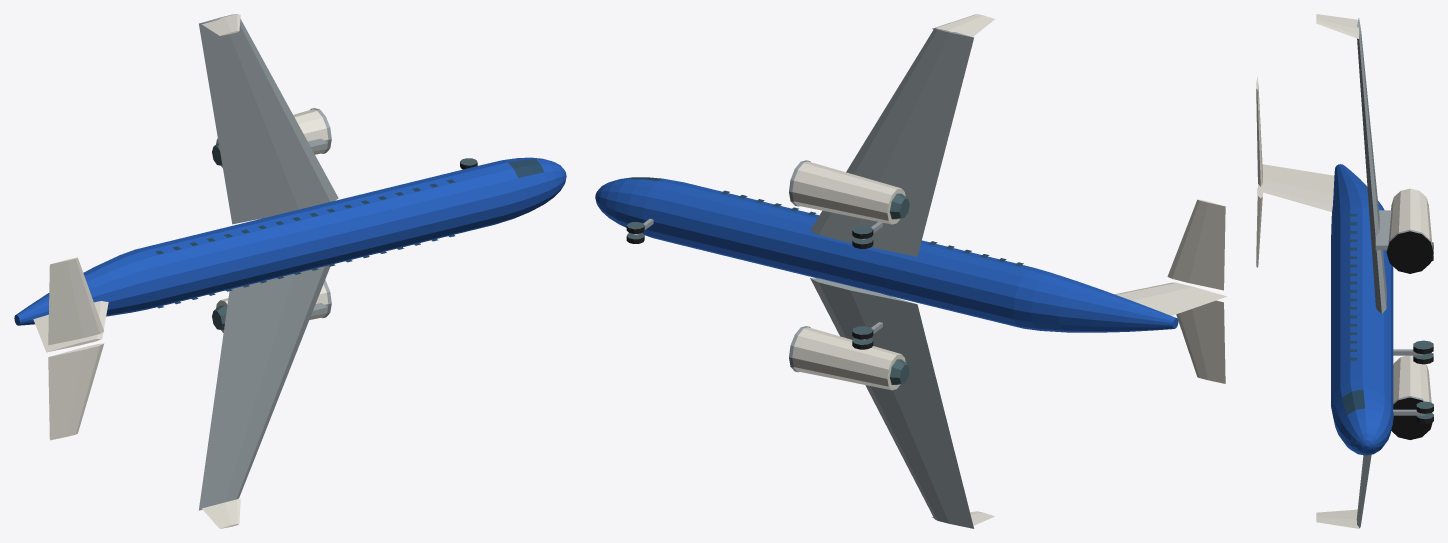
3 renders of one model, left to right at view 1: azimuth 30°, elevation 25°; view 2: azimuth 150°, elevation 25°; view 3: azimuth 270°, elevation 25°, orthographic.
Parts seen in each view (by area): view 1: default_fuselage, default_wing-1, default_wing1, default_tailplane-1, default_tailplane1, default_fin1, default_engine2.81, default_winglet-11; view 2: default_fuselage, default_wing1, default_wing-1, default_engine2.81, default_engine2.8-1, default_tailplane1, default_tailplane-1, default_fin1, default_winglet11; view 3: default_fuselage, default_engine2.81, default_wing1, default_fin1, default_engine2.8-1, default_engine2.81_lip, default_winglet11, default_winglet-11, default_engine2.8-1_lip, default_wing-1, default_engine2.81_pylon, default_windows1 (+3 smaller).
Boxes of the visible parts, left/top/right/bottom form: default_fuselage: left=14, top=157, right=566, bottom=325; default_wing-1: left=198, top=265, right=329, bottom=510; default_wing1: left=199, top=14, right=338, bottom=224; default_tailplane-1: left=48, top=343, right=104, bottom=440; default_tailplane1: left=48, top=257, right=103, bottom=345; default_fin1: left=33, top=301, right=108, bottom=352; default_engine2.81: left=216, top=109, right=328, bottom=167; default_winglet-11: left=202, top=498, right=240, bottom=528; default_fuselage: left=595, top=177, right=1178, bottom=332; default_wing1: left=810, top=28, right=973, bottom=256; default_wing-1: left=810, top=278, right=973, bottom=528; default_engine2.81: left=792, top=161, right=905, bottom=224; default_engine2.8-1: left=792, top=327, right=905, bottom=390; default_tailplane1: left=1167, top=199, right=1225, bottom=290; default_tailplane-1: left=1176, top=300, right=1225, bottom=383; default_fin1: left=1115, top=282, right=1226, bottom=315; default_winglet11: left=932, top=14, right=994, bottom=36; default_fuselage: left=1331, top=164, right=1393, bottom=455; default_engine2.81: left=1387, top=188, right=1432, bottom=272; default_wing1: left=1357, top=18, right=1386, bottom=313; default_fin1: left=1259, top=164, right=1334, bottom=211; default_engine2.8-1: left=1391, top=355, right=1432, bottom=439; default_engine2.81_lip: left=1386, top=229, right=1433, bottom=273; default_winglet11: left=1316, top=14, right=1358, bottom=38; default_winglet-11: left=1316, top=509, right=1358, bottom=528; default_engine2.8-1_lip: left=1391, top=396, right=1432, bottom=439; default_wing-1: left=1356, top=454, right=1371, bottom=528; default_engine2.81_pylon: left=1375, top=210, right=1391, bottom=250; default_windows1: left=1349, top=214, right=1356, bottom=360.
Size of the model in its own units: 20.4 by 16.85 by 5.43.
